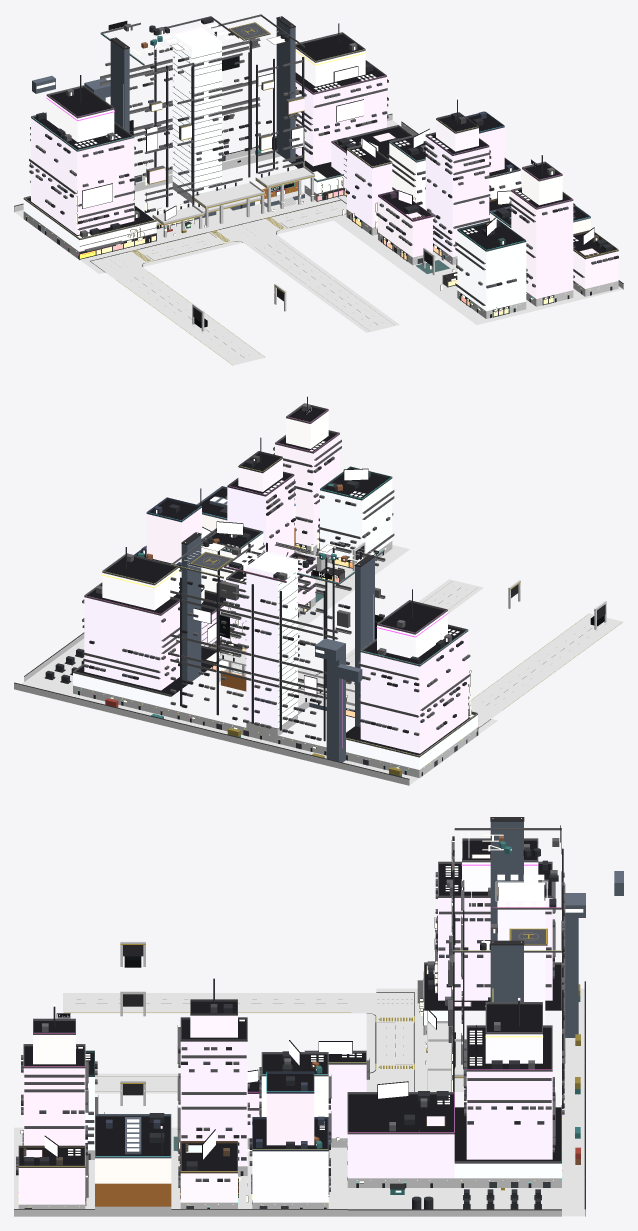
Rendered from world-phone-mega.glb.
3 views of the same model, one above another, from view 1: azimuth 30°, elevation 25°; view 2: azimuth 150°, elevation 25°; view 3: azimuth 270°, elevation 25° (orthographic). The views are drawn at different scales.
Visible parts, largest first — view 1: mega_facade, mega_trim, mega_asphalt, mega_roof, mega_concrete, mega_sidewalk, mega_metal, mega_billboard, mega_glow, mega_board_frame, mega_shop, mega_paint (+1 smaller); view 2: mega_facade, mega_trim, mega_concrete, mega_roof, mega_asphalt, mega_metal, mega_sidewalk, mega_glow, mega_billboard, mega_board_frame; view 3: mega_facade, mega_trim, mega_roof, mega_concrete, mega_asphalt, mega_sidewalk, mega_metal, mega_glow, mega_billboard, mega_board_frame, mega_paint, mega_neon_amber.
Boxes of the visible parts, box(x1,y1,x2,y2) form: mega_facade: box(23, 26, 618, 311); mega_trim: box(14, 14, 623, 322); mega_asphalt: box(91, 200, 399, 365); mega_roof: box(27, 34, 615, 257); mega_concrete: box(14, 114, 623, 331); mega_sidewalk: box(14, 120, 622, 324); mega_metal: box(36, 17, 612, 251); mega_billboard: box(82, 66, 594, 244); mega_glow: box(22, 17, 598, 312); mega_board_frame: box(76, 21, 594, 312); mega_shop: box(80, 190, 553, 316); mega_paint: box(111, 202, 393, 364); mega_facade: box(73, 411, 477, 769); mega_trim: box(14, 403, 605, 779); mega_concrete: box(14, 541, 606, 785); mega_roof: box(76, 407, 474, 755); mega_asphalt: box(232, 579, 623, 727); mega_metal: box(45, 396, 445, 741); mega_sidewalk: box(21, 545, 497, 784); mega_glow: box(28, 394, 520, 759); mega_billboard: box(193, 469, 368, 696); mega_board_frame: box(110, 406, 471, 768); mega_facade: box(18, 862, 561, 1204); mega_trim: box(14, 817, 623, 1210); mega_roof: box(19, 840, 561, 1170); mega_concrete: box(14, 941, 585, 1216); mega_asphalt: box(63, 993, 414, 1093); mega_sidewalk: box(14, 988, 584, 1216); mega_metal: box(24, 848, 563, 1209); mega_glow: box(18, 814, 584, 1207); mega_billboard: box(44, 935, 452, 1159); mega_board_frame: box(20, 825, 560, 1203); mega_paint: box(64, 999, 413, 1091); mega_neon_amber: box(18, 950, 562, 1207).
Bounding box in the file's own units: 226 × 99.8 × 256.
